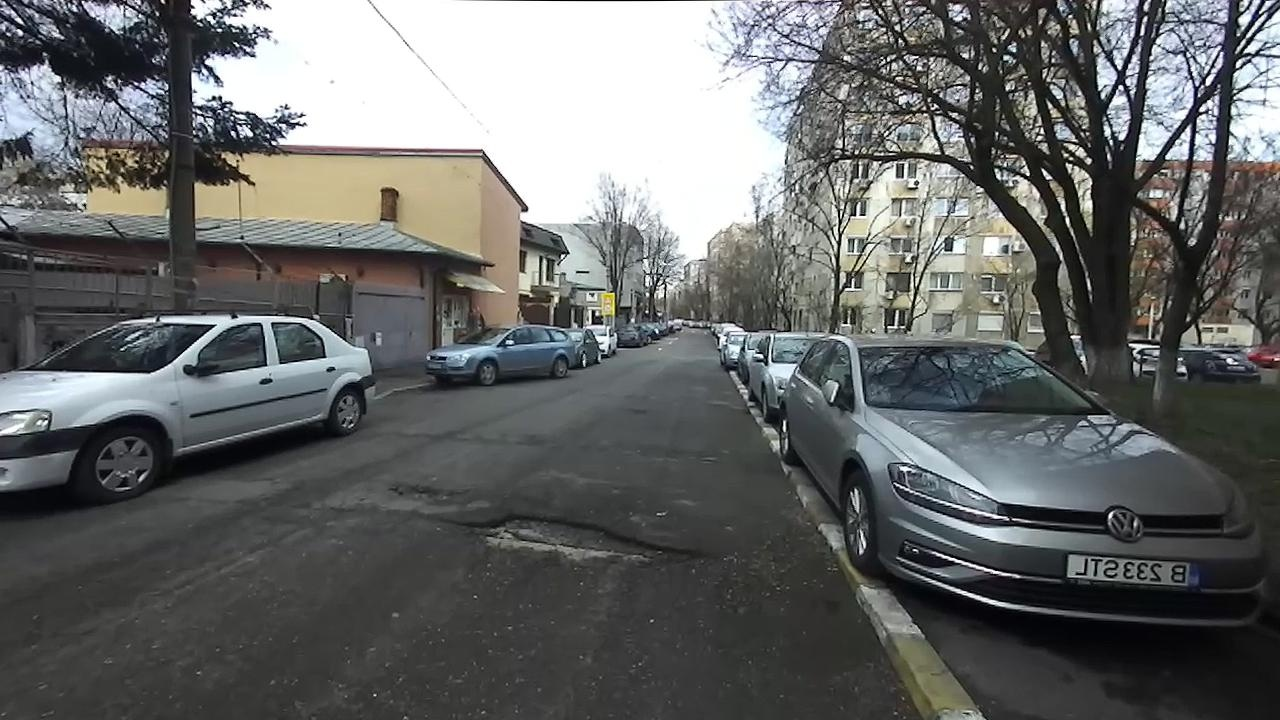pothole: (443, 509, 704, 574), (382, 475, 463, 504), (694, 453, 719, 465)
